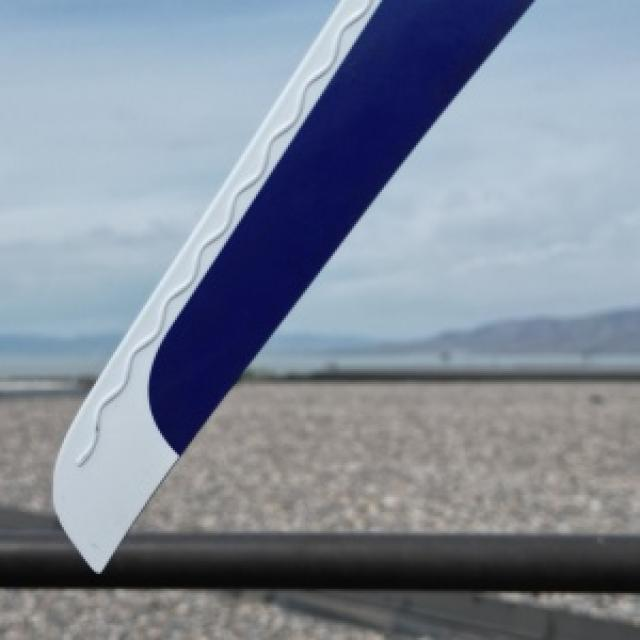healthy: (358, 0, 638, 333)
